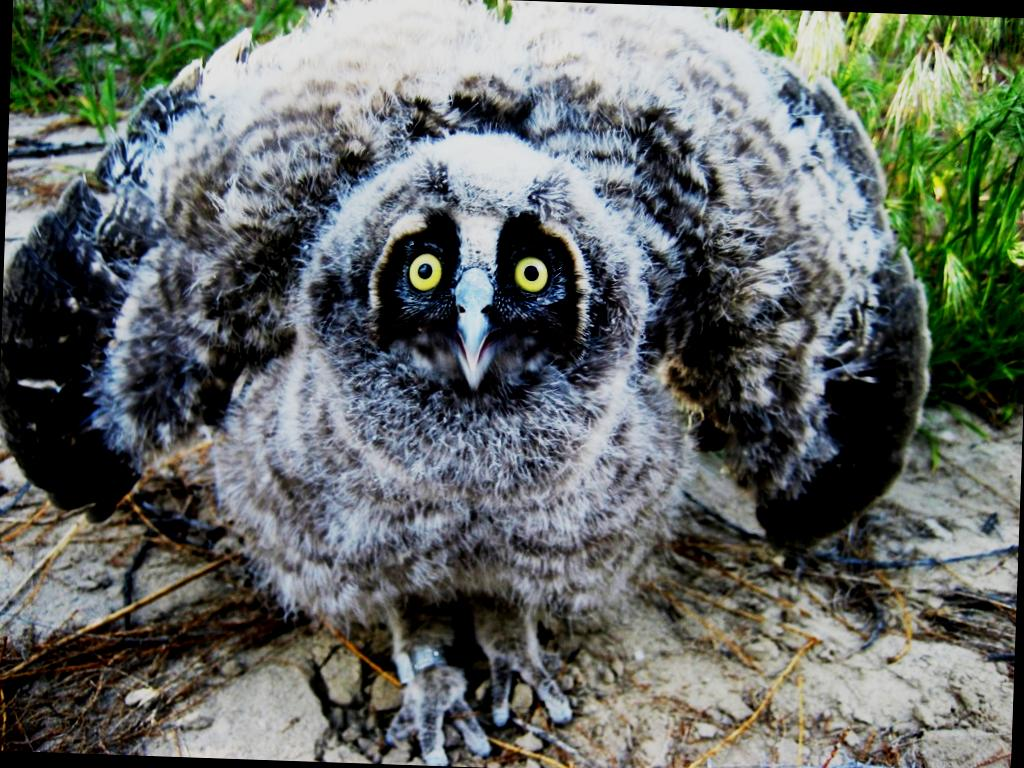Owl: (58, 11, 953, 690)
